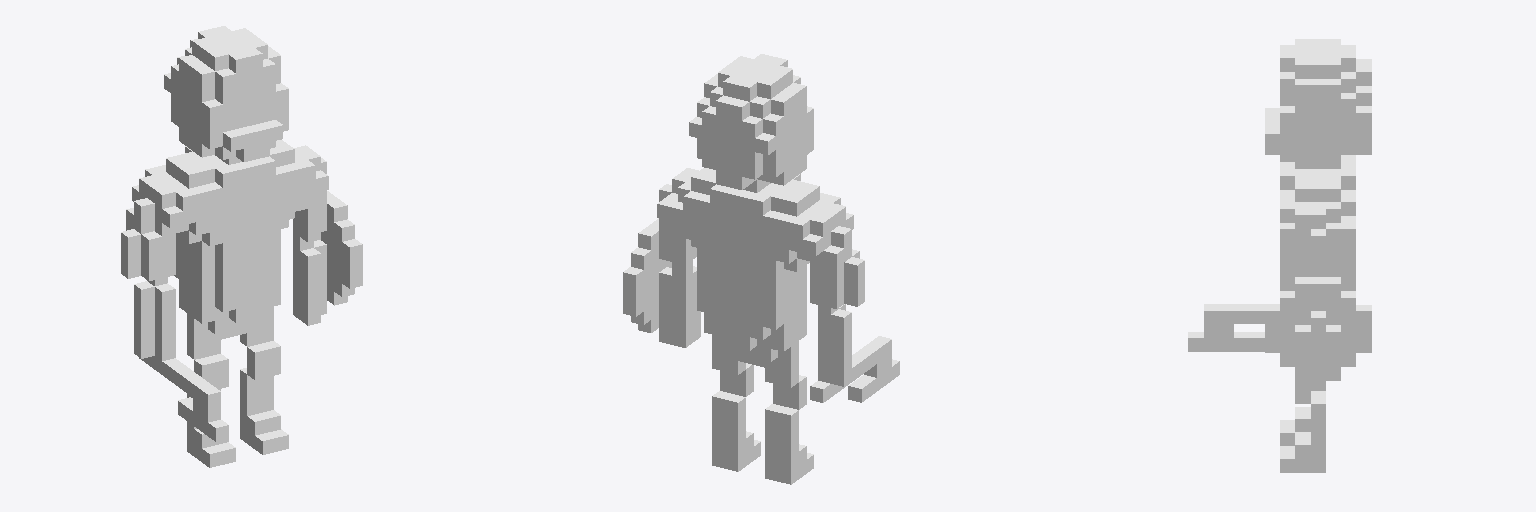
The model's file is vicing.obj.
3 renders of one model, left to right at view 1: azimuth 30°, elevation 25°; view 2: azimuth 150°, elevation 25°; view 3: azimuth 270°, elevation 25°, orthographic.
Visible parts, largest first — view 1: object 1; view 2: object 1; view 3: object 1.
Part boxes in pixels (bbox=[...]): object 1: bbox=[121, 26, 362, 467]; object 1: bbox=[623, 54, 899, 484]; object 1: bbox=[1188, 39, 1371, 472].
Size of the model in its own units: 1.7 by 2.9 by 1.2.